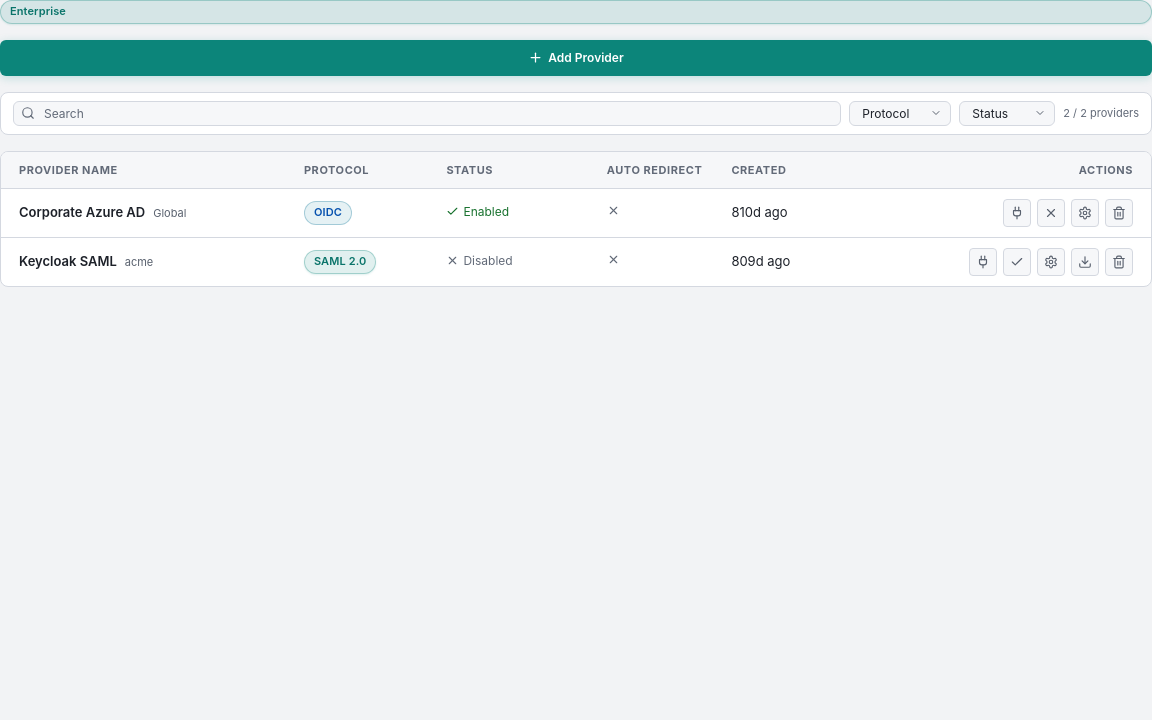
Test case: SsoProviders.vue › opens the add-provider dialog with OIDC form by default
Click the button with class "btn--primary" at (576, 58), box left=0, top=40, right=1151, bottom=76
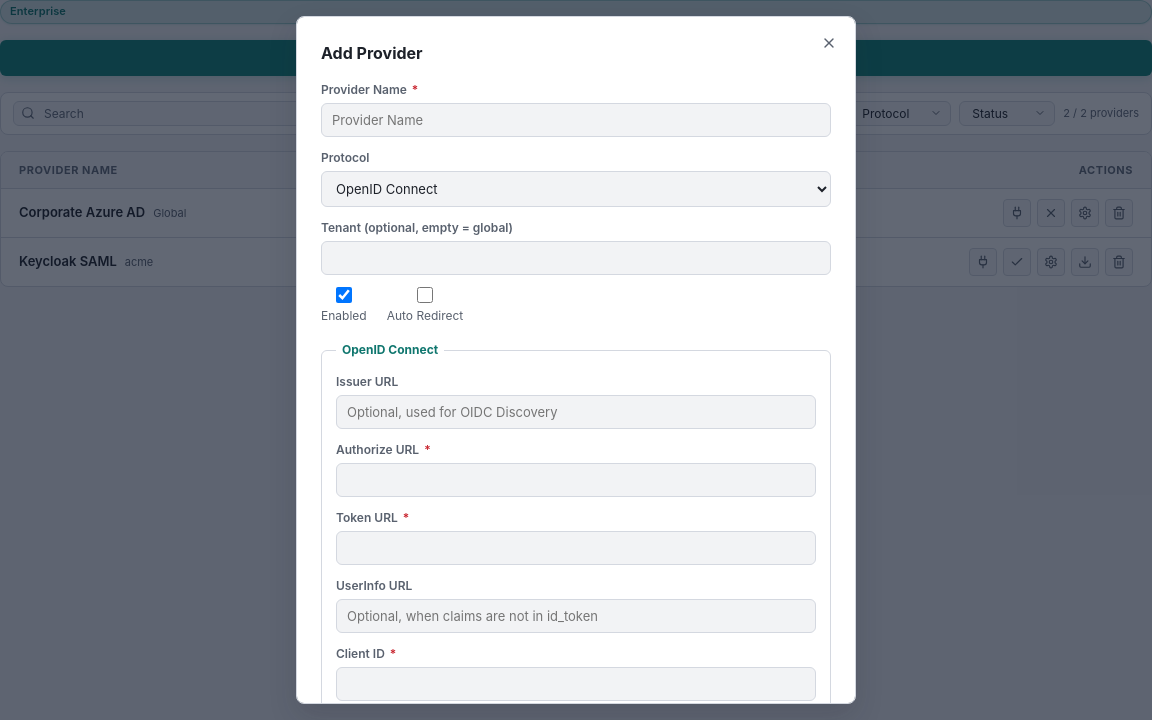
Result: the dialog with class "sso-dialog" is shown at left=296, top=16, right=856, bottom=704
Result: the text "OpenID Connect" is shown at left=336, top=341, right=444, bottom=359
